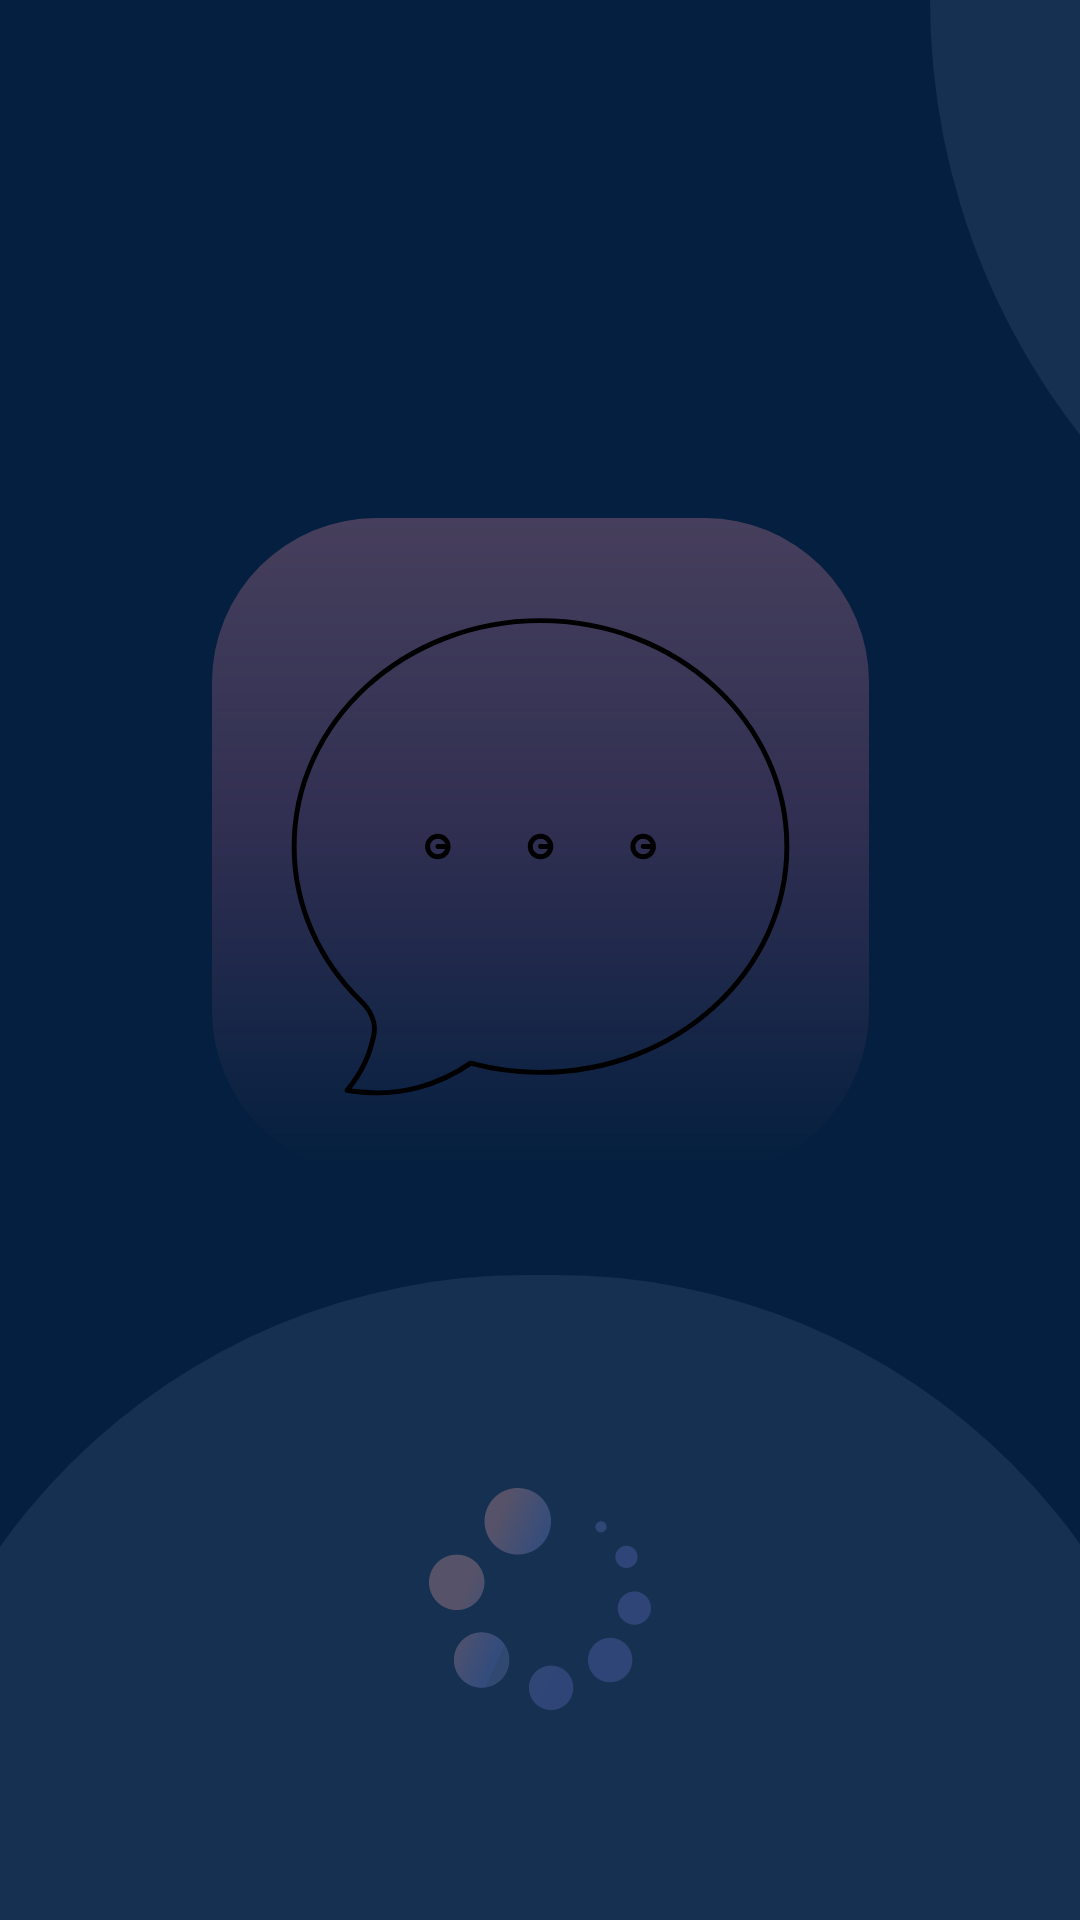

Locate icon controls on the screen. Image size 1080px x 1920px, boxes as {"x1": x1, "y1": y1, "x2": x2, "y2": y2}.
loading intro: {"x1": 429, "y1": 1488, "x2": 651, "y2": 1710}
